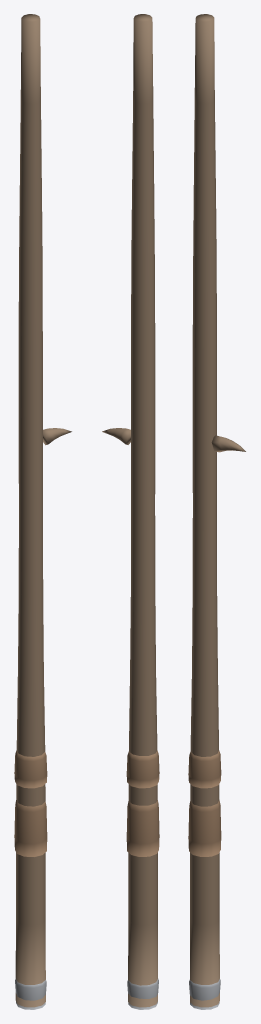
File: wpn_wooden_staff.glb
3 views of the same model, side by side, from view 1: azimuth 30°, elevation 25°; view 2: azimuth 150°, elevation 25°; view 3: azimuth 330°, elevation 25° (orthographic).
Visible parts, largest first — view 1: wpn_wooden_staff; view 2: wpn_wooden_staff; view 3: wpn_wooden_staff.
Part boxes in pixels (bbox=[...]): wpn_wooden_staff: bbox=[14, 14, 71, 1009]; wpn_wooden_staff: bbox=[102, 14, 159, 1009]; wpn_wooden_staff: bbox=[188, 14, 245, 1009].
Bounding box in the file's own units: 0.1108 × 1.87 × 0.0539.
